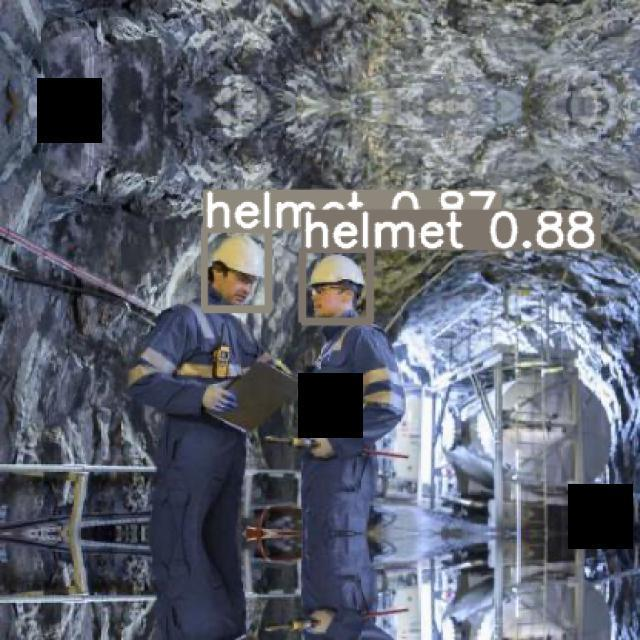white helmet: (207, 230, 267, 285), (305, 252, 369, 295)
